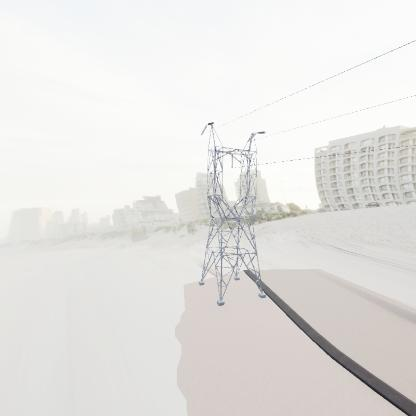tower: (195, 116, 271, 305)
